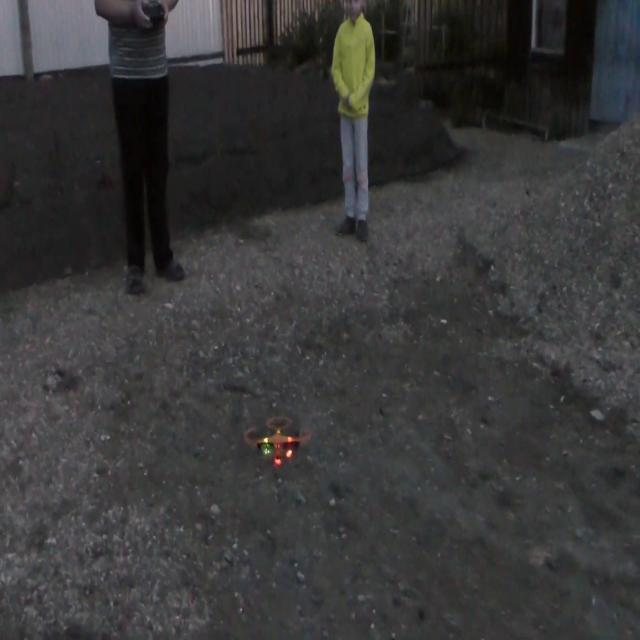Drons: (238, 406, 316, 474)
